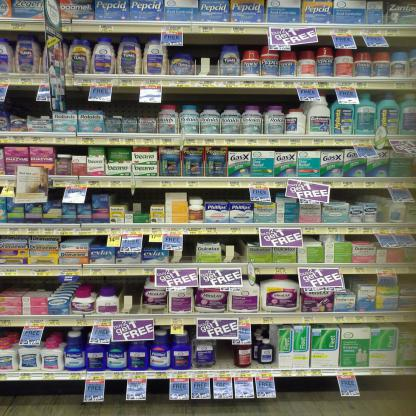Void: (166, 87, 298, 104), (188, 34, 222, 74), (118, 272, 140, 312), (114, 89, 143, 117), (1, 278, 56, 292), (113, 189, 162, 204), (10, 89, 35, 116), (206, 188, 247, 200), (219, 341, 232, 368), (184, 237, 194, 263)
